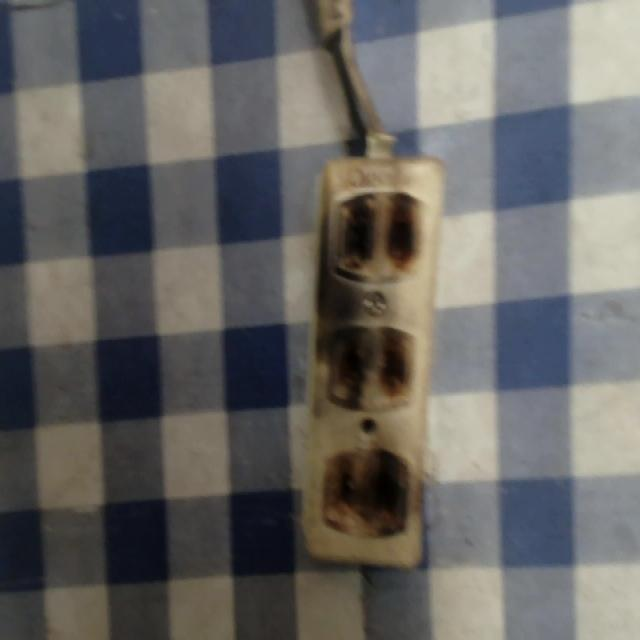-: (325, 316, 418, 411), (333, 185, 423, 283), (316, 443, 409, 536)
